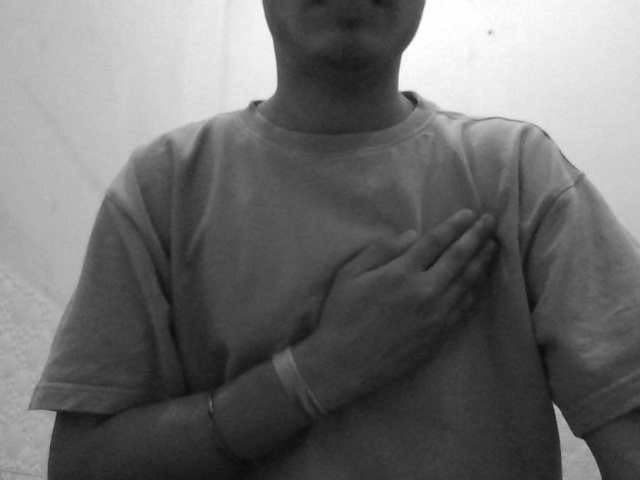Sorry: (292, 201, 543, 408)
